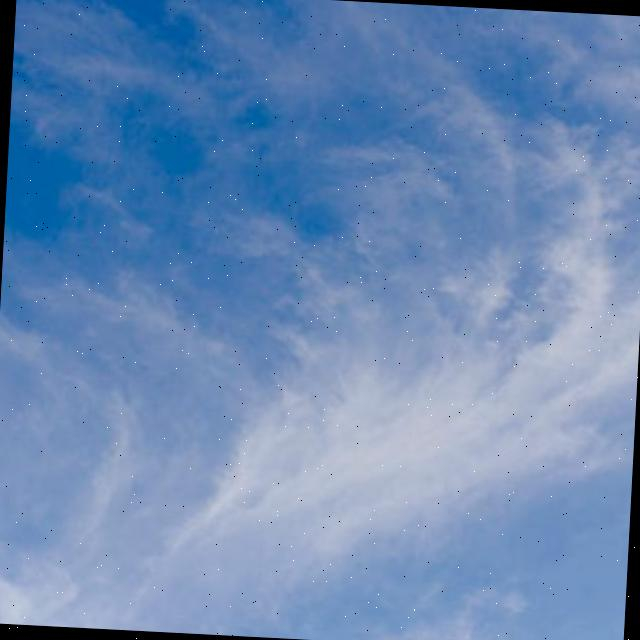Ci: (1, 28, 640, 640)
